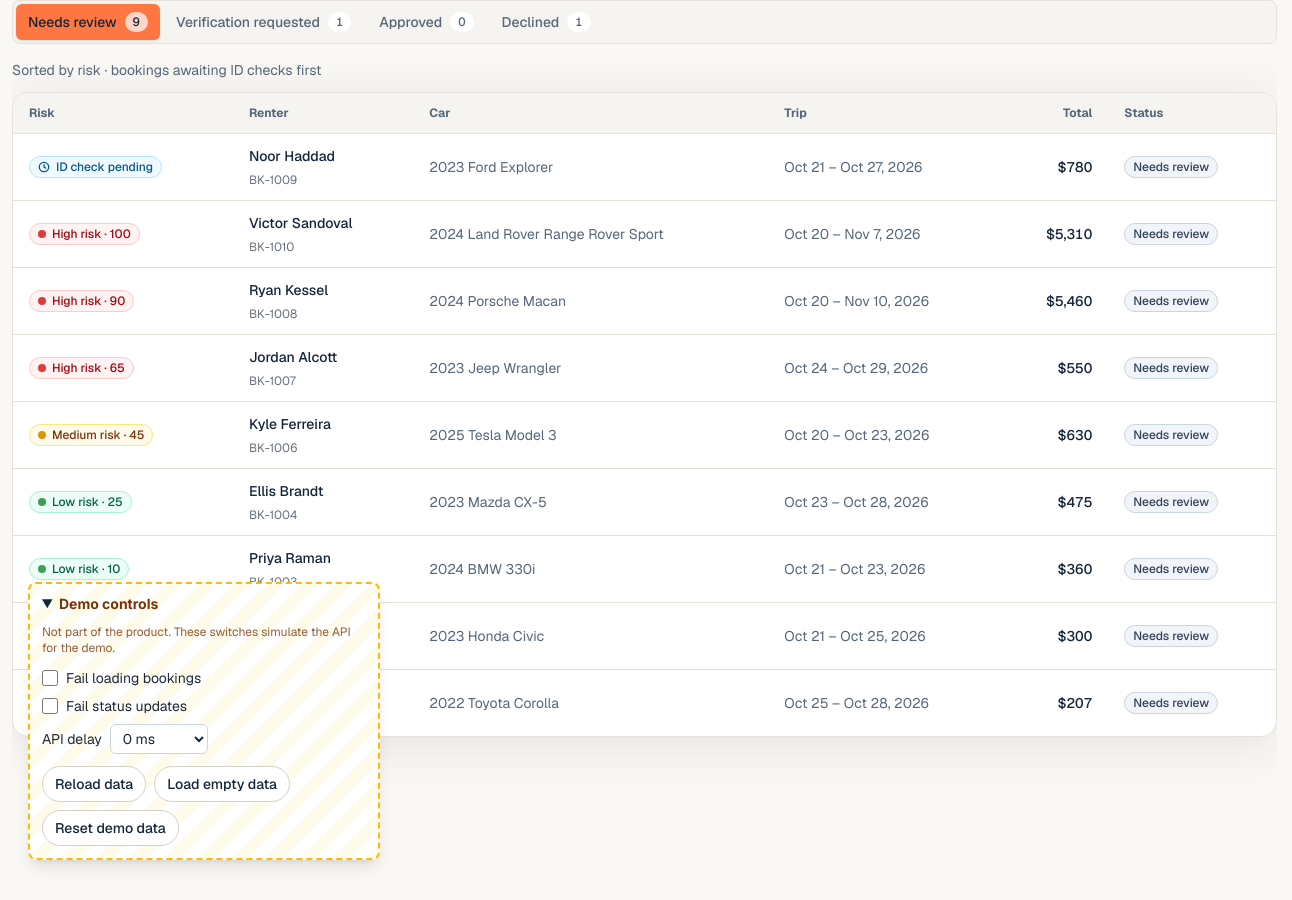
Scenario: RiskReviewPage › shows a tab-specific empty state for an empty tab
Click the tab "Approved 0". click: (426, 22)
box: [367,4,486,40]
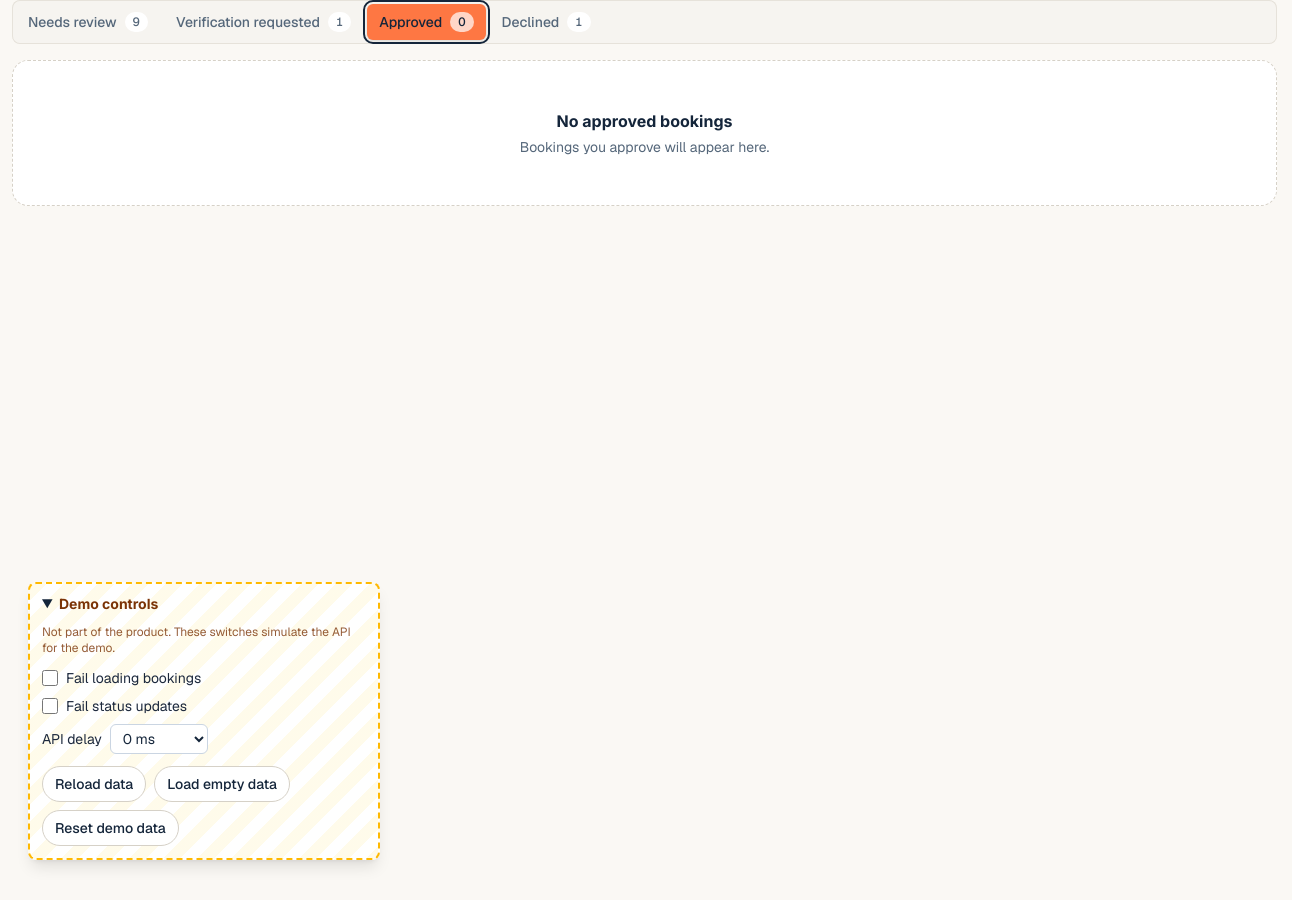
Check: the heading "No approved bookings" is shown, box [556,111,732,131]
Check: the table is gone
